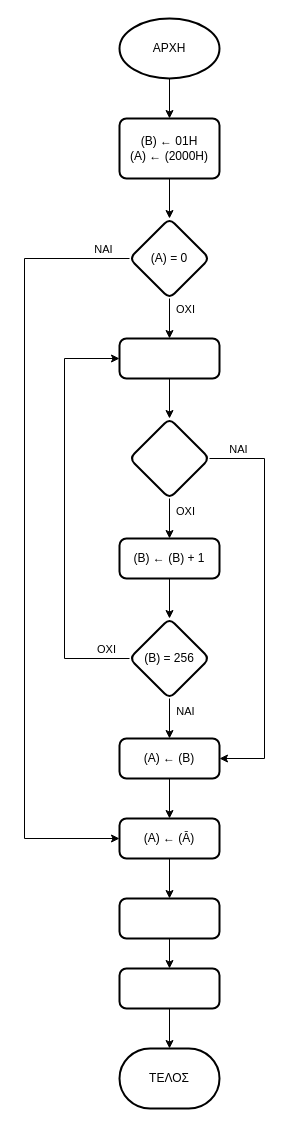
This 290x1126 diagram has some shape labels left out. The shapes that lost their labels are listed below. From the top down, each one's centre as x and y in pixels, then its label:
At [169,358]: "Δεξιά ολίσθηση (Α) με κρατούμενο".
At [169,458]: "(CY) = 1".
At [169,918]: "(3000H) ← (A)".
At [169,988]: "RST 1".
